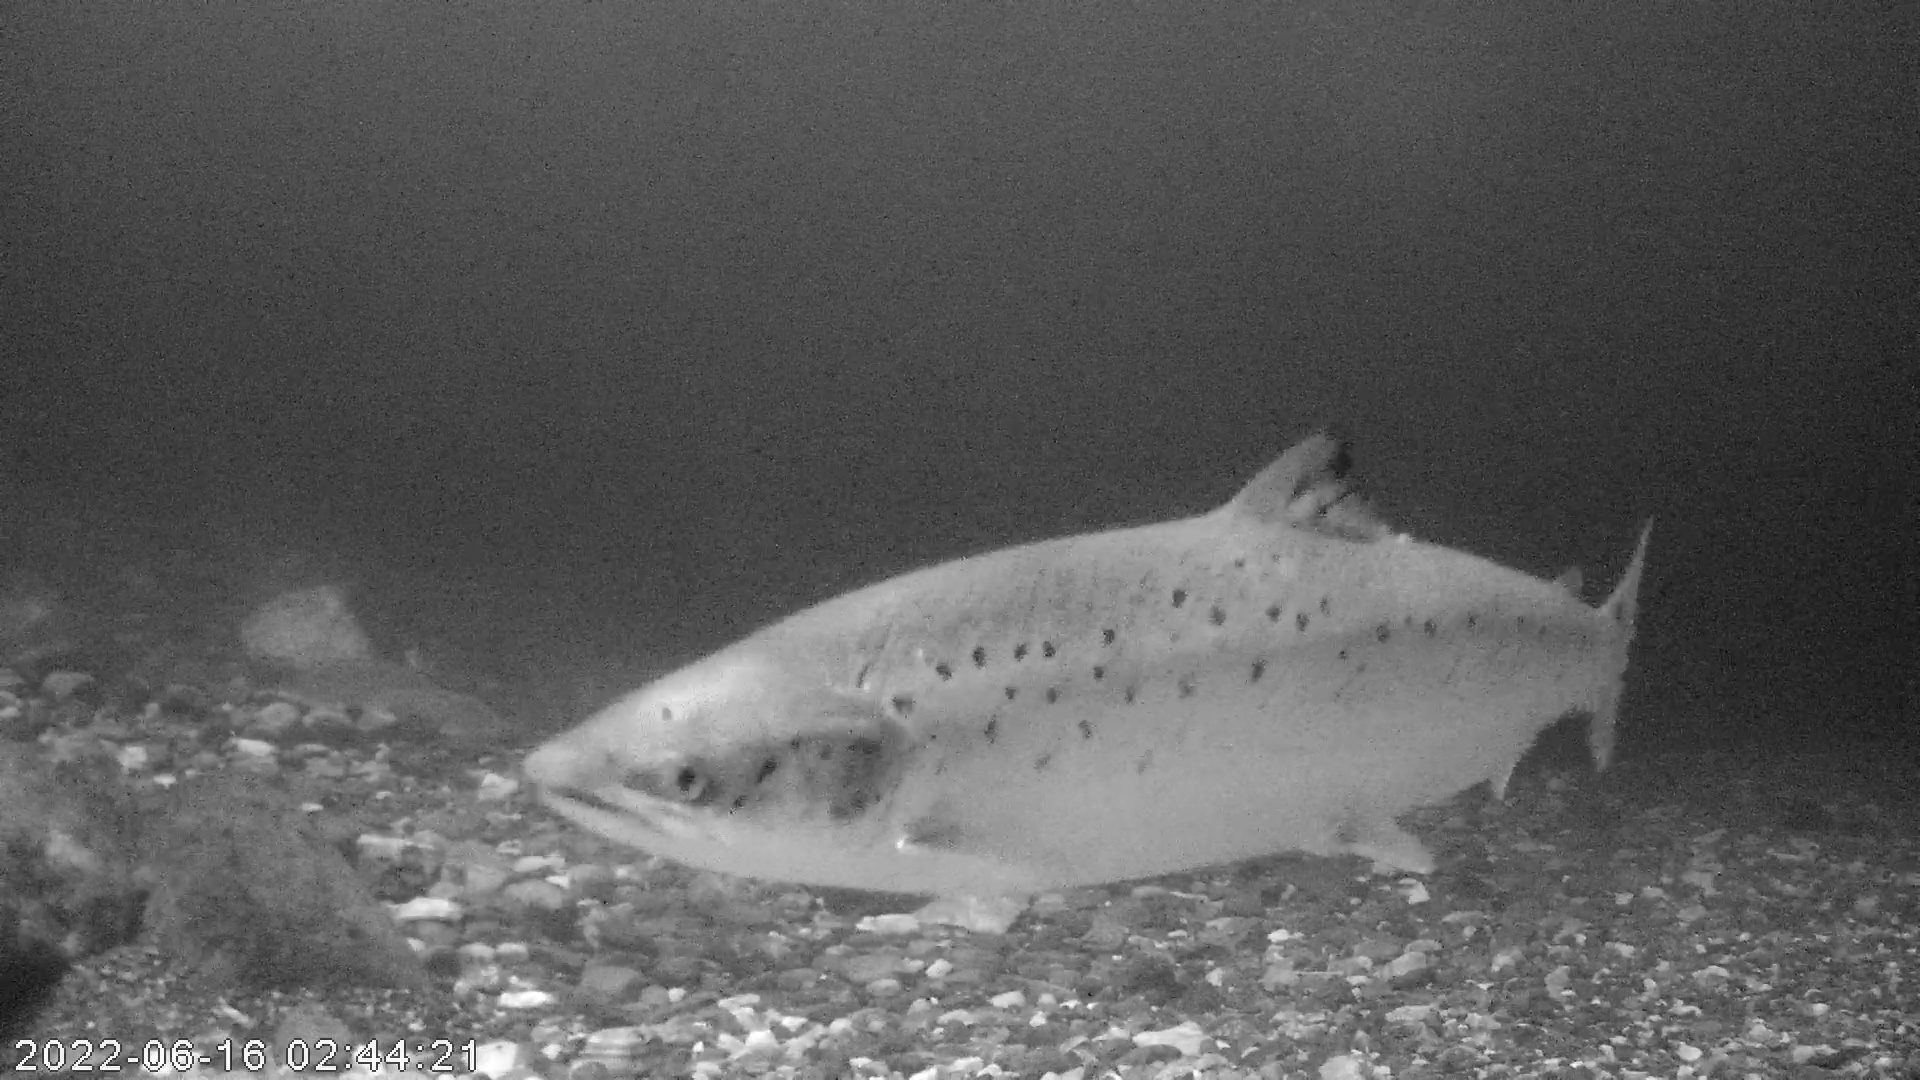salmon: (524, 419, 1656, 899)
